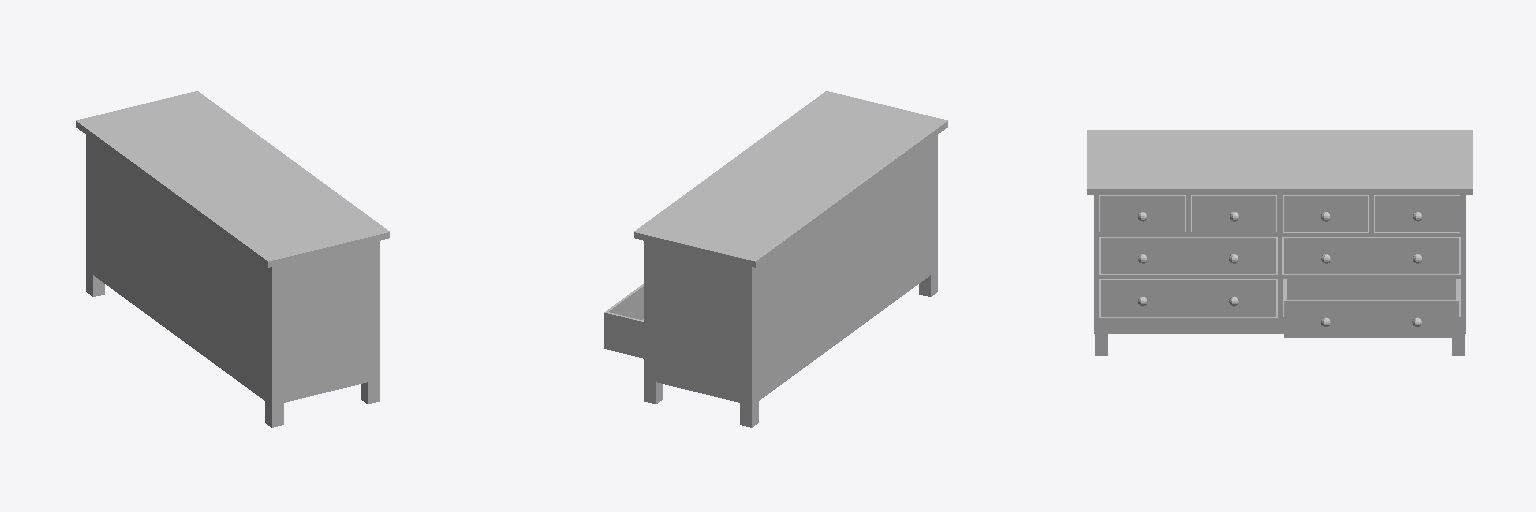
File: dresser_fixed.obj
3 views of the same model, side by side, from view 1: azimuth 30°, elevation 25°; view 2: azimuth 150°, elevation 25°; view 3: azimuth 270°, elevation 25° (orthographic).
Visible parts, largest first — view 1: dresser:Mesh dresser:polySurface3 polySurface1; view 2: dresser:Mesh dresser:polySurface3 polySurface1; view 3: dresser:Mesh dresser:polySurface3 polySurface1.
Part boxes in pixels (x1,y1,x2,y2): dresser:Mesh dresser:polySurface3 polySurface1: (76,91,389,427); dresser:Mesh dresser:polySurface3 polySurface1: (604,91,947,427); dresser:Mesh dresser:polySurface3 polySurface1: (1087,130,1472,355).
Bounding box in the file's own units: 2.07 × 2.01 × 4.11.